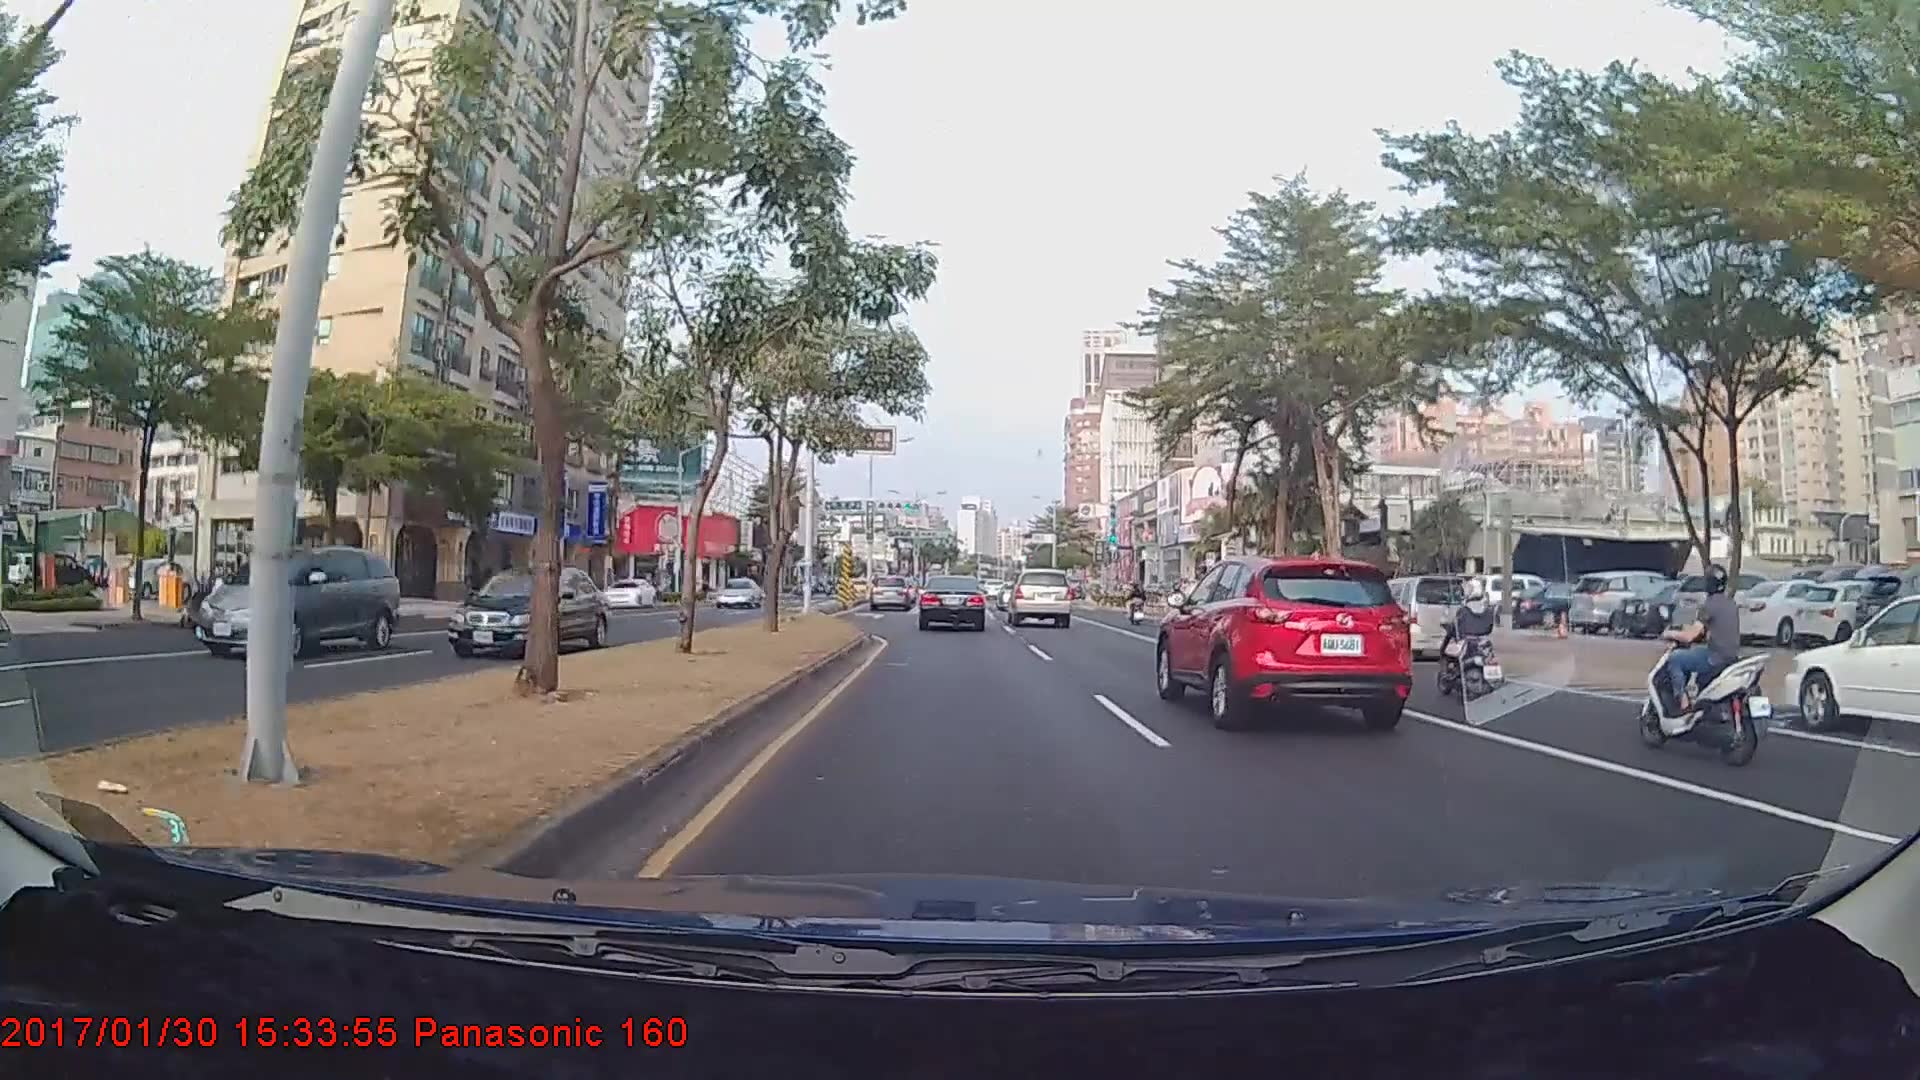rider: (1629, 555, 1779, 766), (1423, 574, 1516, 705), (1128, 583, 1155, 628)
vehicle: (1153, 550, 1411, 730), (193, 544, 400, 657), (1786, 589, 1918, 744), (445, 565, 614, 658), (1356, 574, 1470, 661), (1564, 570, 1691, 636), (1006, 566, 1072, 628), (916, 574, 987, 632), (866, 571, 918, 612), (603, 577, 655, 610), (712, 576, 762, 609)
